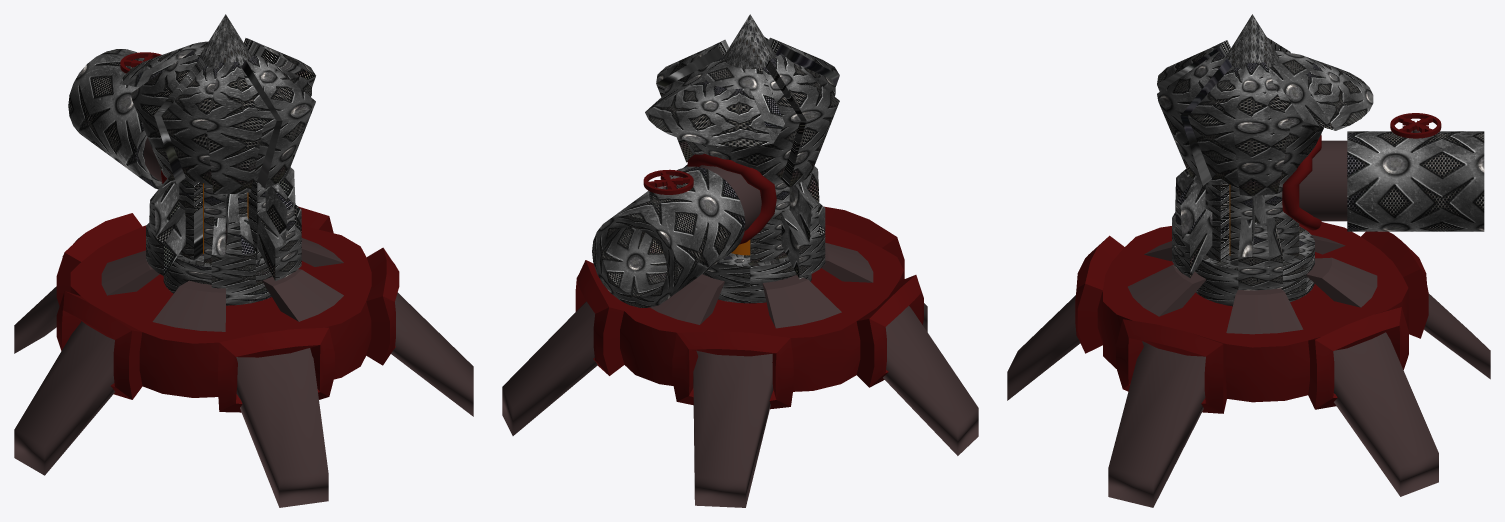
The model's file is ExtractorSmall.fbx.
3 views of the same model, side by side, from view 1: azimuth 30°, elevation 25°; view 2: azimuth 150°, elevation 25°; view 3: azimuth 270°, elevation 25° (orthographic).
Parts seen in each view (by area): view 1: pCylinder5; view 2: pCylinder5; view 3: pCylinder5.
Boxes of the visible parts, x1,y1,x2,y2 form: pCylinder5: [14, 14, 473, 507]; pCylinder5: [502, 14, 978, 507]; pCylinder5: [1007, 14, 1490, 507].
Size of the model in its own units: 64.84 by 59.64 by 65.93.
4 materials, 1 textured.
